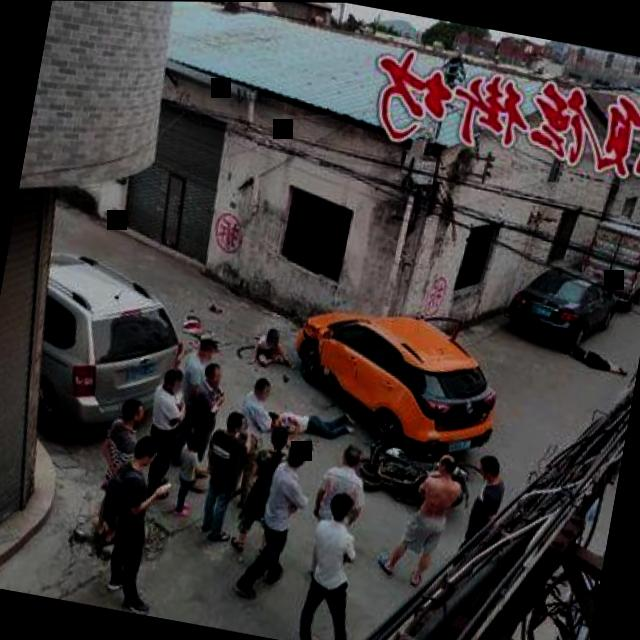Fall-Detected: (252, 316, 300, 370)
